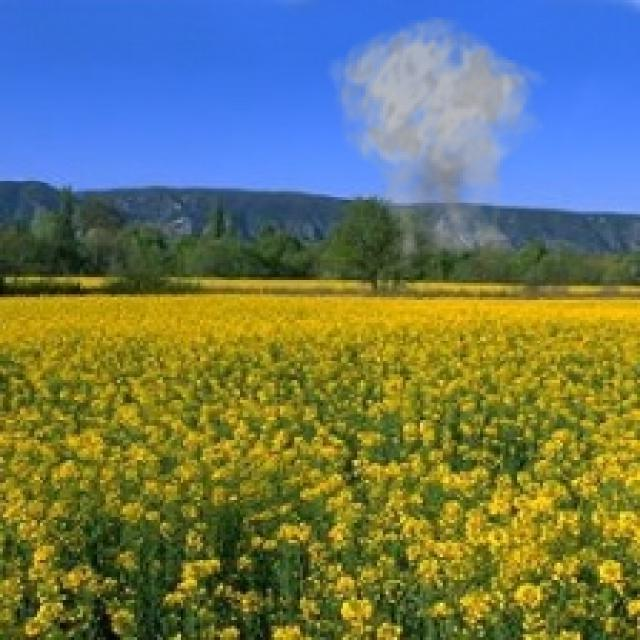smoke: (326, 14, 551, 277)
